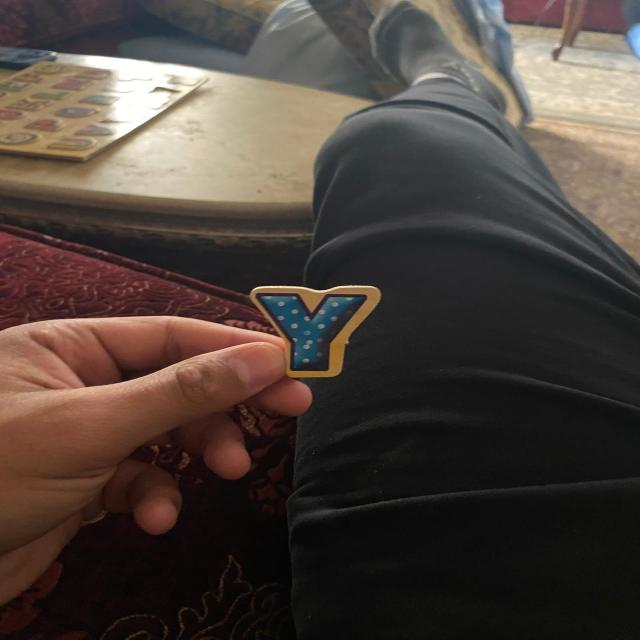Y: (251, 285, 381, 377)
